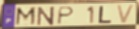1: (86, 5, 95, 24)
L: (98, 6, 113, 24)
M: (14, 6, 37, 27)
N: (36, 6, 56, 27)
P: (56, 6, 75, 25)
V: (115, 4, 136, 25)
